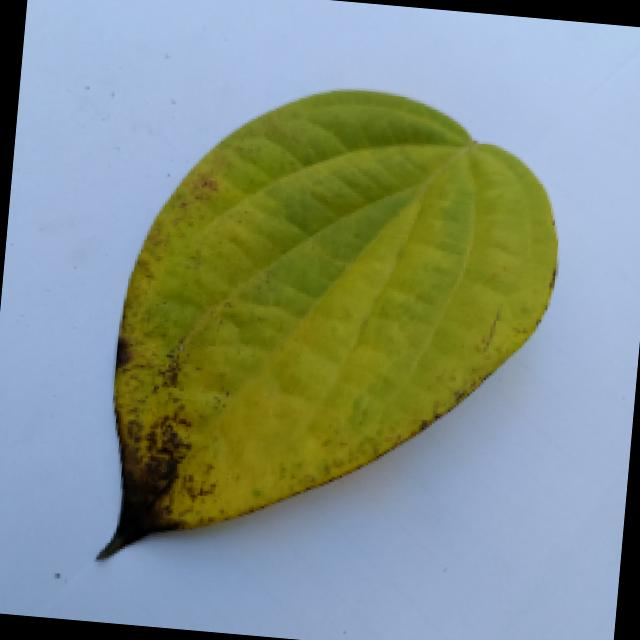slow-decline: (65, 71, 587, 608)
